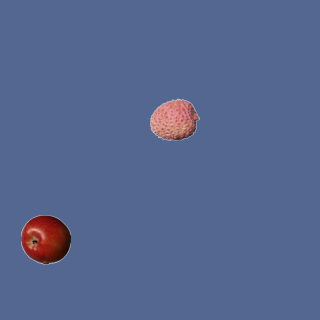Apple Braeburn: (20, 214, 70, 264)
Lychee: (149, 94, 199, 144)
